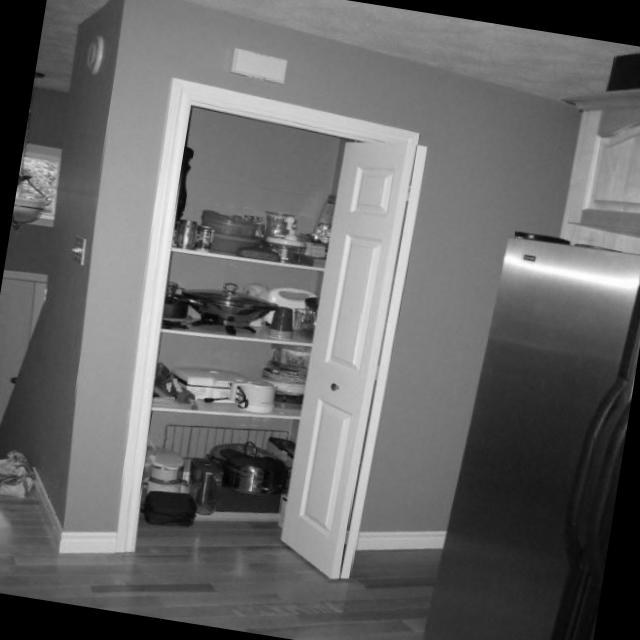ceiling beam: (180, 0, 640, 107)
cupboard crop: (561, 89, 640, 252)
door bars: (281, 139, 429, 579)
floor -X: (0, 470, 441, 640)
fridge occluded: (422, 232, 640, 640)
glass ceiling: (269, 306, 294, 340)
pantry door: (139, 106, 356, 523)
saucepan: (209, 441, 285, 495), (175, 288, 281, 325)
switch: (71, 234, 88, 263)
wall clock: (57, 0, 583, 553), (0, 0, 126, 552), (6, 86, 71, 271), (0, 269, 49, 418)
